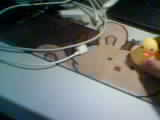duck: (123, 29, 152, 72)
